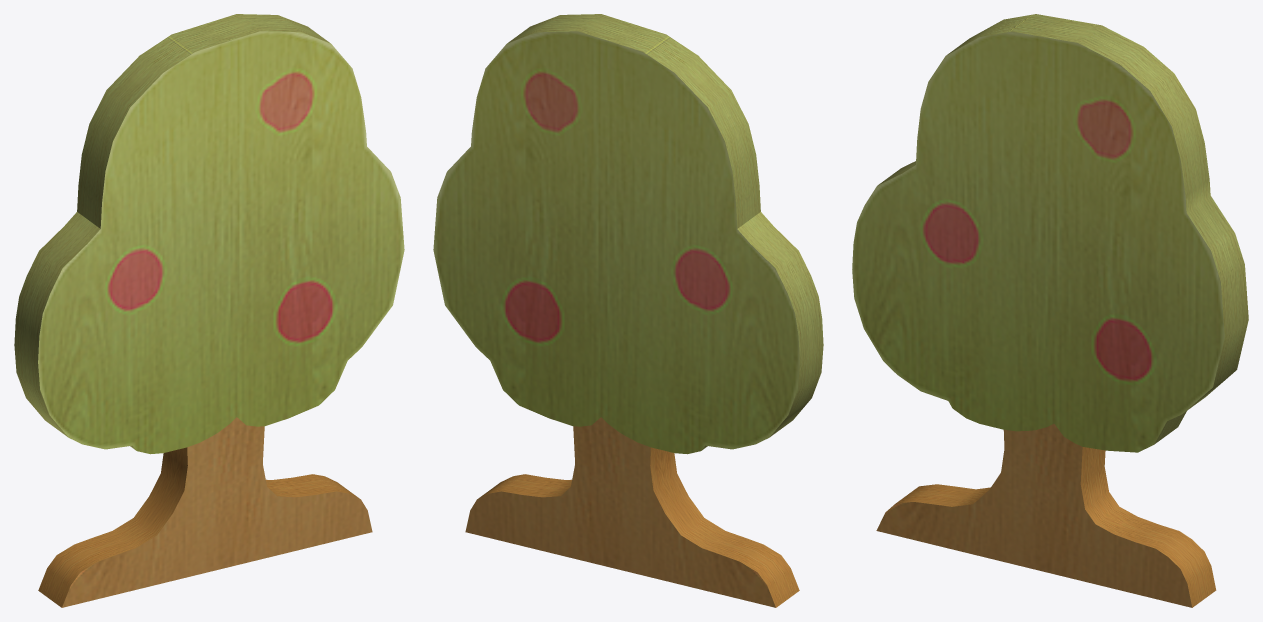
Rendered from Doll_OB_ToyTrainDec_003.FBX.
3 views of the same model, side by side, from view 1: azimuth 30°, elevation 25°; view 2: azimuth 150°, elevation 25°; view 3: azimuth 330°, elevation 25° (orthographic).
Parts seen in each view (by area): view 1: Doll_OB_ToyTrainDec_003; view 2: Doll_OB_ToyTrainDec_003; view 3: Doll_OB_ToyTrainDec_003.
Part boxes in pixels (bbox=[...]): Doll_OB_ToyTrainDec_003: bbox=[14, 14, 404, 607]; Doll_OB_ToyTrainDec_003: bbox=[433, 14, 823, 607]; Doll_OB_ToyTrainDec_003: bbox=[852, 14, 1248, 607].
Size of the model in its own units: 11.82 by 16.28 by 1.32.
